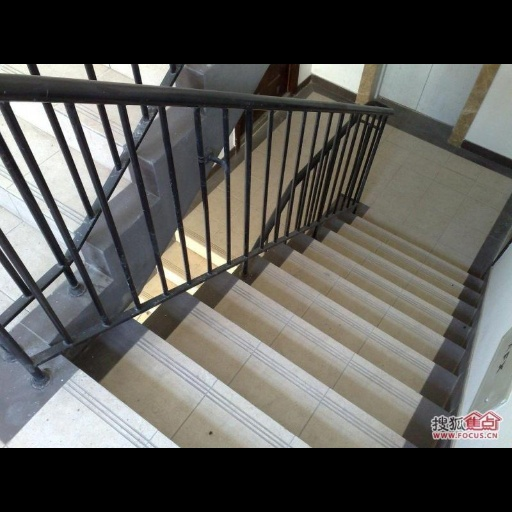Stairs: (0, 168, 512, 445)
